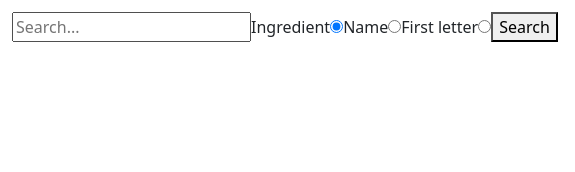
SearchBar › deve realizar uma busca por nome
Click the radio button with test id "name-search-radio" at (395, 26), box [388,20,401,33]
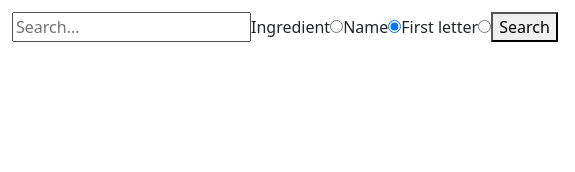
expect the radio button with test id "name-search-radio" is checked: met, box [388,20,401,33]
Type "Meal1" into the field with test id "search-input" at (132, 27), box [12,12,251,42]
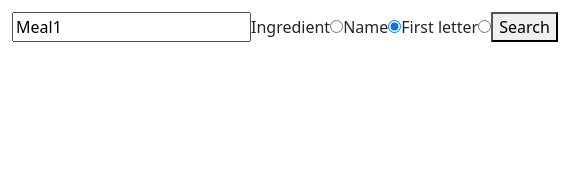
Click the button with test id "exec-search-btn" at (524, 27), box [491,12,558,42]
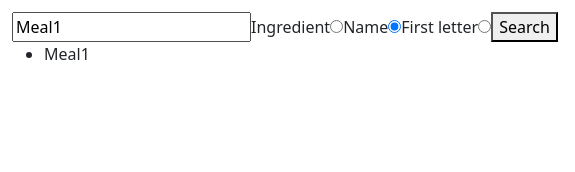
expect the list item "Meal1" is shown: met, box [44,43,90,65]
